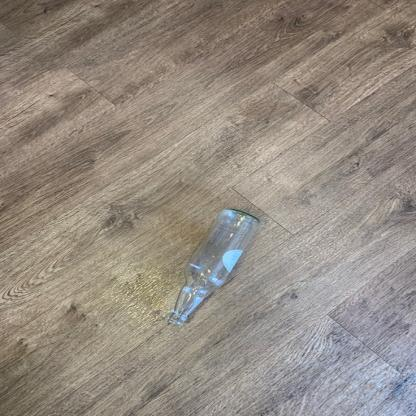trash: (165, 205, 263, 328)
